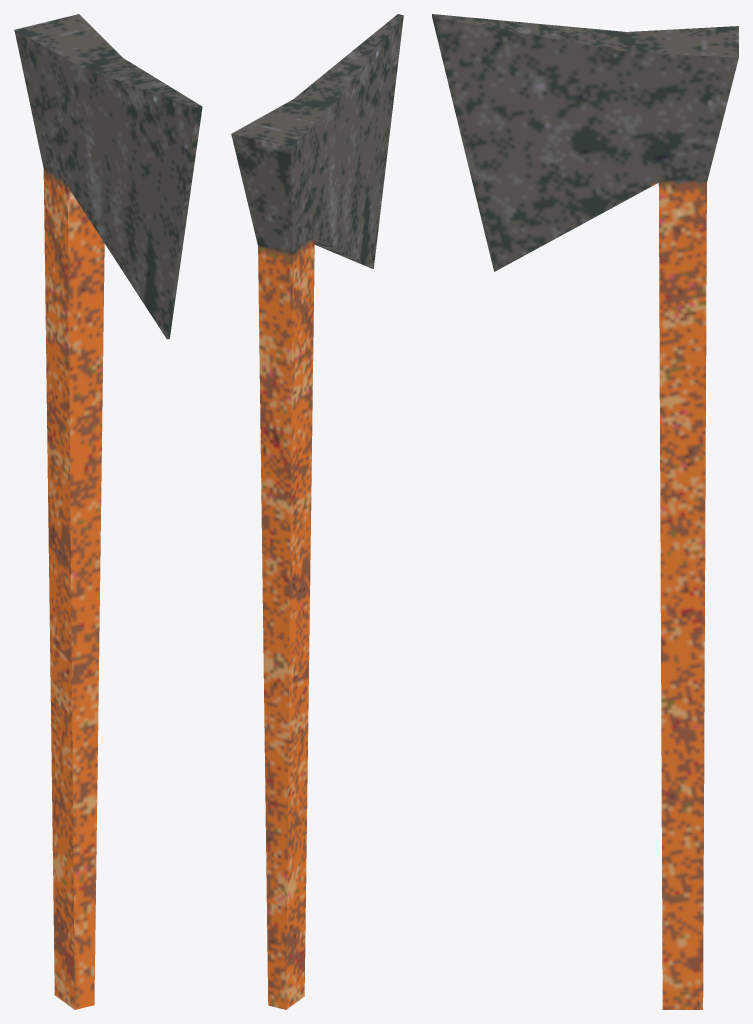
The model's file is PSX_Axe.glb.
3 views of the same model, side by side, from view 1: azimuth 30°, elevation 25°; view 2: azimuth 150°, elevation 25°; view 3: azimuth 270°, elevation 25° (orthographic). The views are drawn at different scales.
Visible parts, largest first — view 1: SM_PSX_Axe; view 2: SM_PSX_Axe; view 3: SM_PSX_Axe.
Part boxes in pixels (left/top/right/bottom): SM_PSX_Axe: left=14, top=14, right=202, bottom=1009; SM_PSX_Axe: left=231, top=14, right=403, bottom=1009; SM_PSX_Axe: left=432, top=14, right=738, bottom=1009.
Size of the model in its own units: 0.0522 by 0.7578 by 0.213.
1 material, 1 textured.
